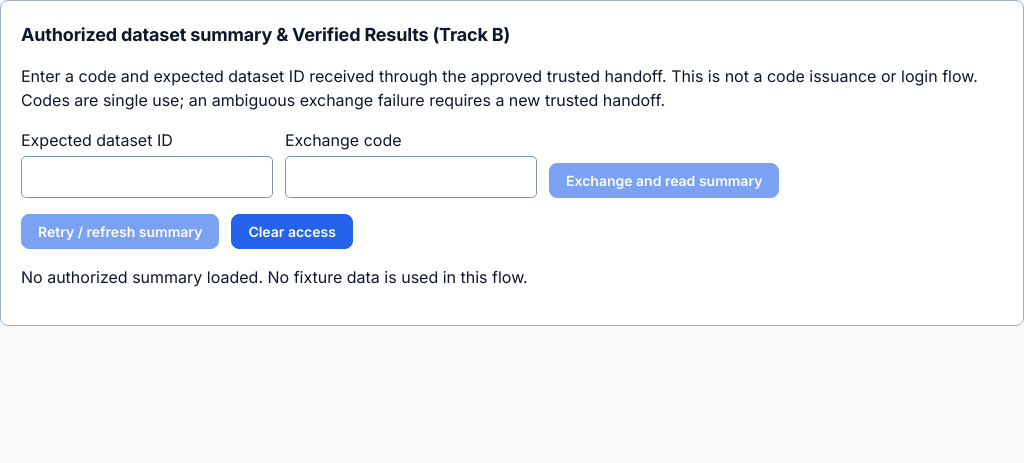
Test: renders non-ready lifecycle without inventing metrics or polling
Type "dataset-a" into the field labelled "Expected dataset ID". click: (147, 177)
box: 21,156 -> 273,198
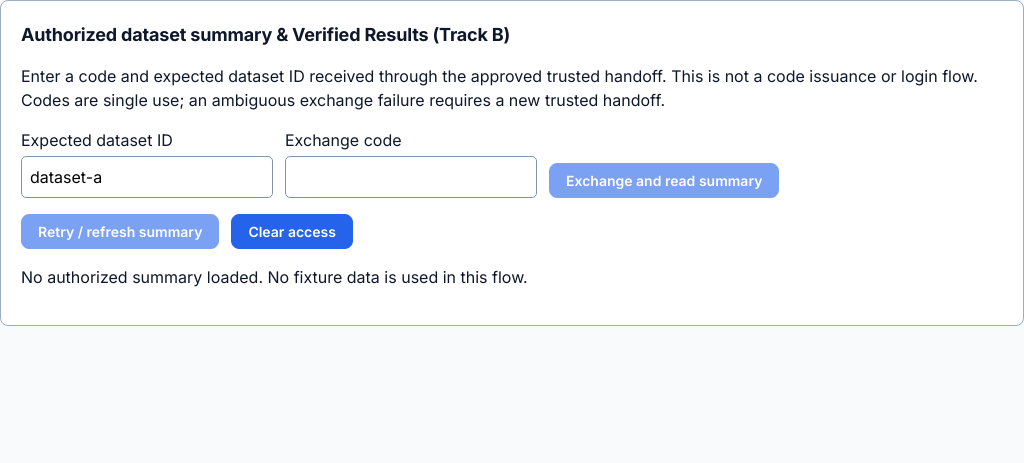
Type "trusted-code" into the password field labelled "Exchange code". click: (411, 177)
box: 285,156 -> 537,198
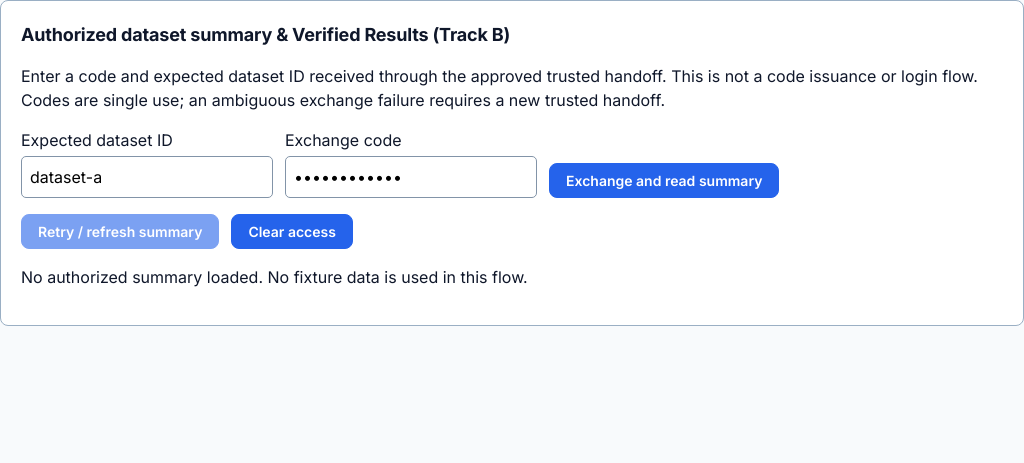
Click the button "Exchange and read summary". click: (664, 180)
box: 549,163 -> 779,198
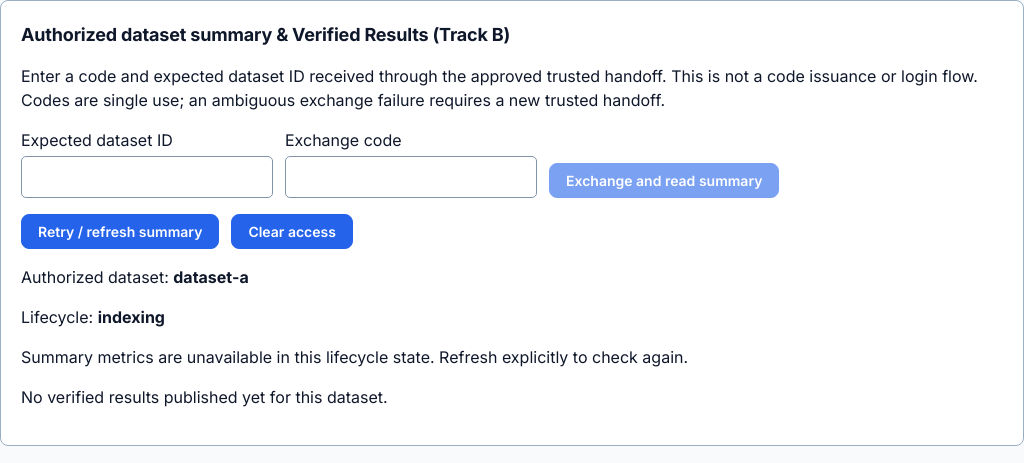
Result: the text "indexing" is shown at 98,307 -> 165,327
